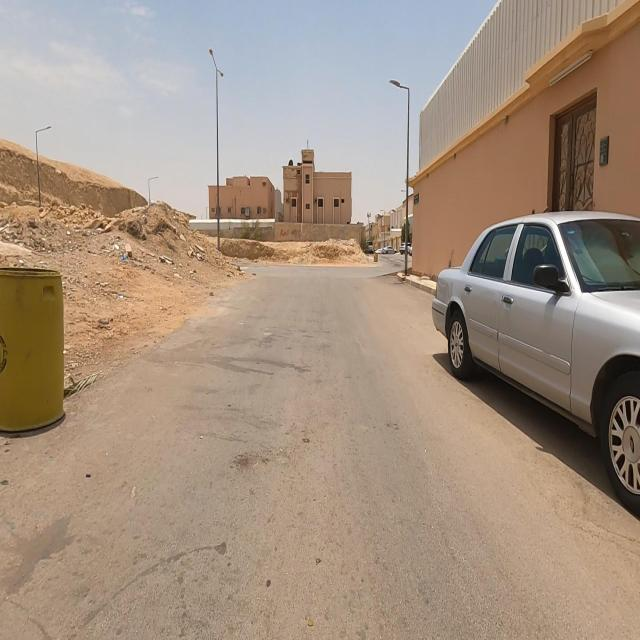Graffiti: (281, 230, 302, 239)
